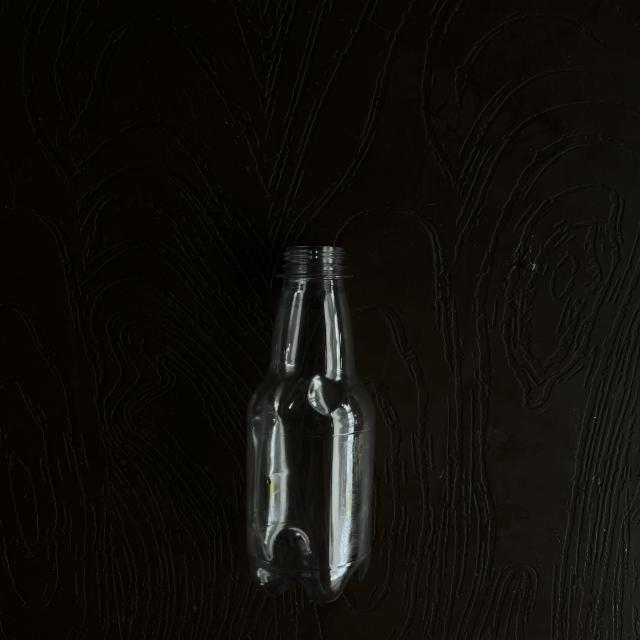PET_ClearBottle: (235, 241, 399, 609)
